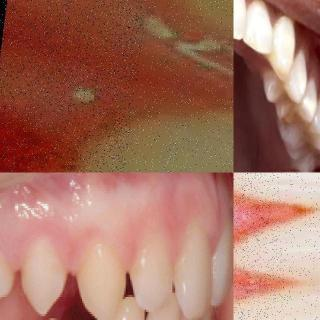Gum Swelling: (0, 0, 173, 172)
